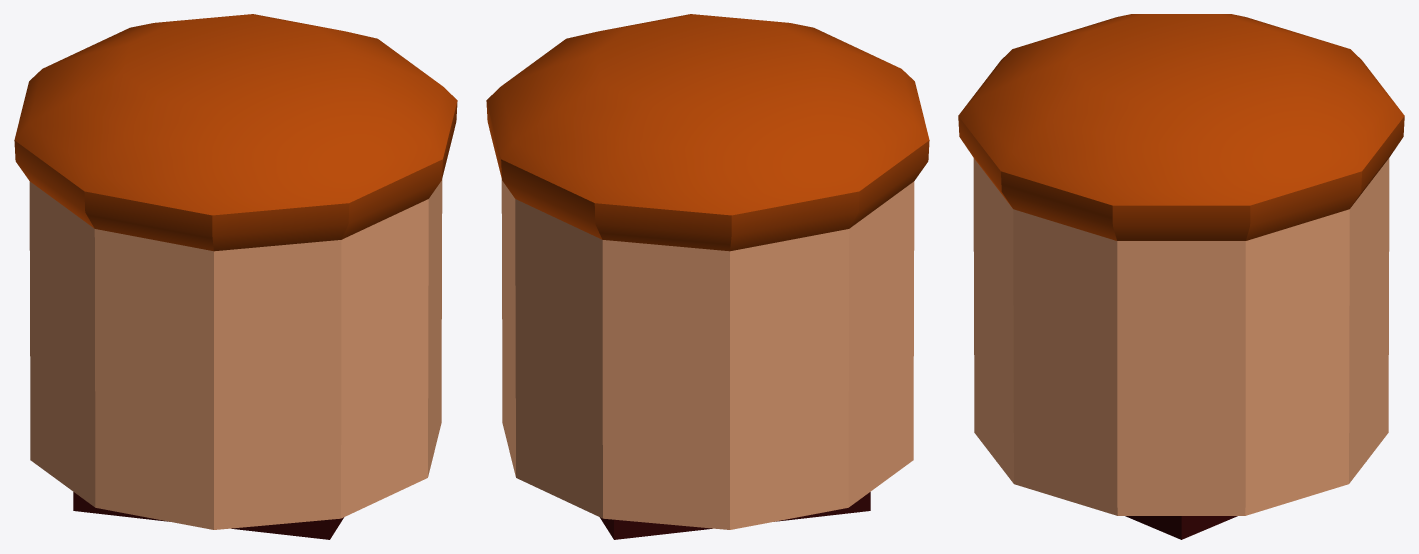
File: Prop_Pouffes_05.fbx
The picture shows the model from 3 angles, left to right: view 1: azimuth 30°, elevation 25°; view 2: azimuth 150°, elevation 25°; view 3: azimuth 270°, elevation 25°; orthographic projection.
Visible parts, largest first — view 1: Prop_Pouffes_05; view 2: Prop_Pouffes_05; view 3: Prop_Pouffes_05.
Boxes of the visible parts, left/top/right/bottom form: Prop_Pouffes_05: left=14, top=14, right=457, bottom=539; Prop_Pouffes_05: left=486, top=14, right=929, bottom=539; Prop_Pouffes_05: left=958, top=14, right=1404, bottom=539.
Bounding box in the file's own units: 39.55 × 41.3 × 41.59.
